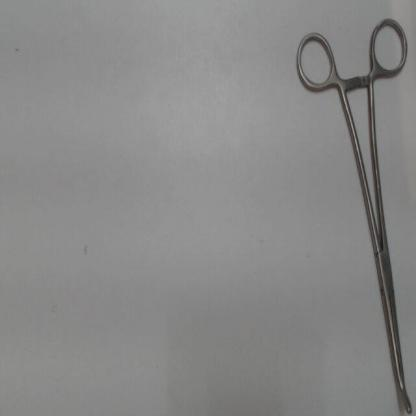Lahey Forceps: (290, 9, 415, 412)
